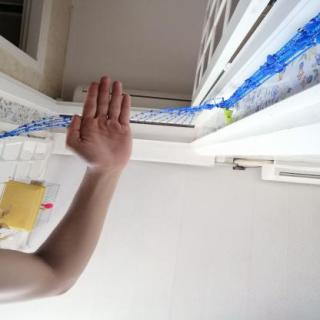SEEN: (58, 70, 140, 176)
